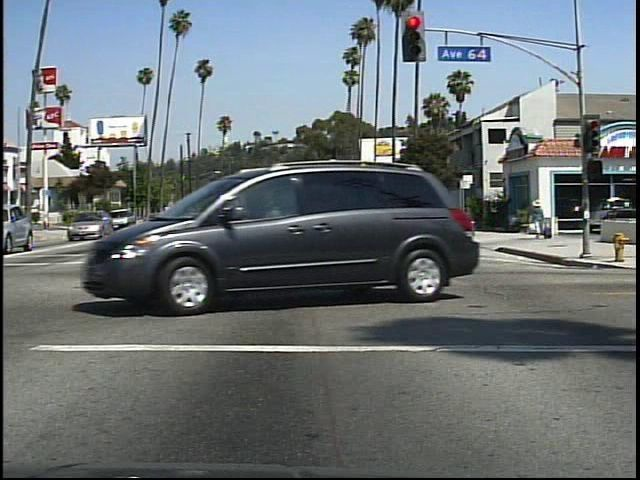person: (531, 196, 547, 243)
